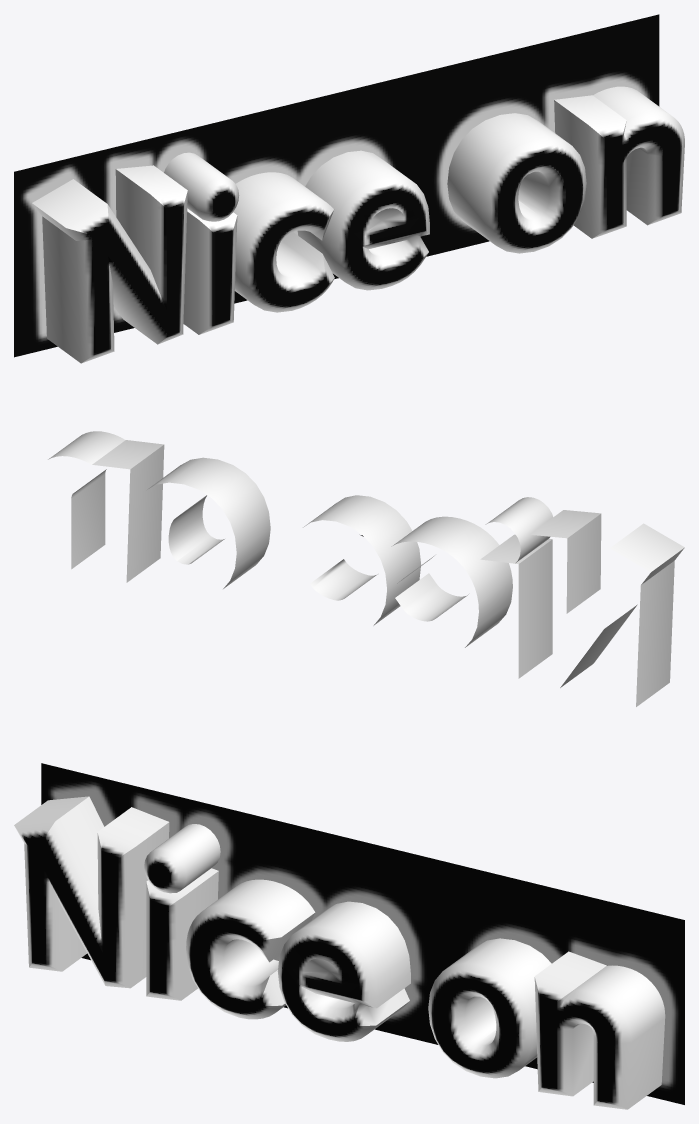
Rendered from glf_nice_on_model__nice_on.glb.
The picture shows the model from 3 angles, top to bottom: view 1: azimuth 30°, elevation 25°; view 2: azimuth 150°, elevation 25°; view 3: azimuth 330°, elevation 25°; orthographic projection.
Visible parts, largest first — view 1: polygon1, polygon2, polygon0; view 2: polygon0; view 3: polygon1, polygon2, polygon0.
Boxes of the visible parts, x1=… form: polygon1: x1=66, y1=111, x2=684, y2=363; polygon2: x1=14, y1=14, x2=659, y2=357; polygon0: x1=32, y1=86, x2=670, y2=363; polygon0: x1=48, y1=431, x2=684, y2=706; polygon1: x1=14, y1=821, x2=630, y2=1109; polygon2: x1=41, y1=763, x2=684, y2=1104; polygon0: x1=14, y1=796, x2=665, y2=1109.
Bounding box in the file's own units: 0.1637 × 0.045 × 0.02.
Materials: 3 (3 with a texture image).
